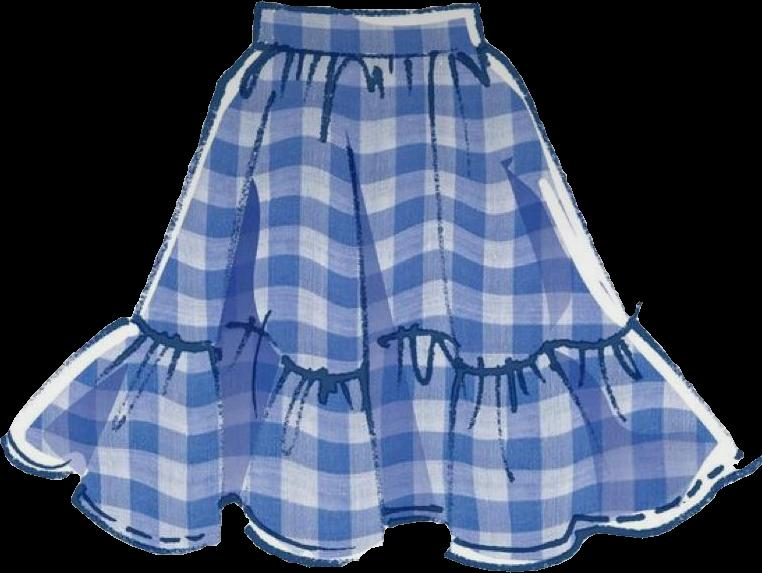Hemline: (0, 434, 744, 568)
Waistline: (129, 310, 633, 379), (249, 42, 488, 62), (254, 0, 476, 19)
